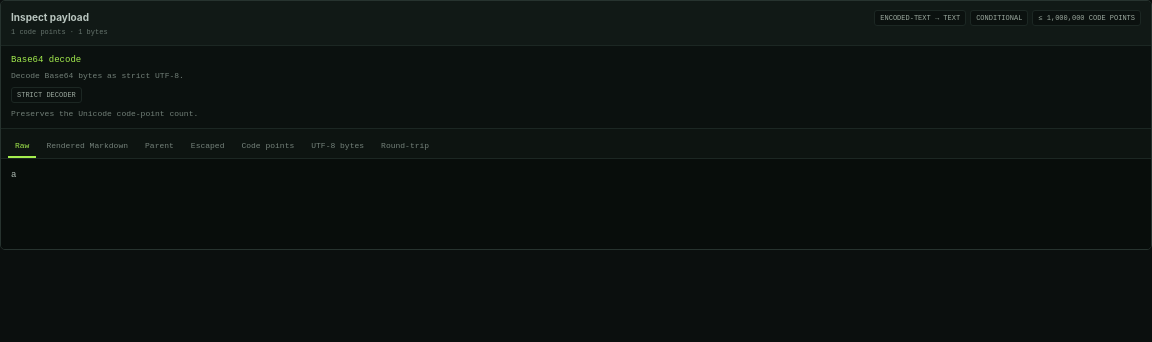
Scenario: PayloadInspectionPanel › reports a directional inverse mismatch when decoding canonicalizes source text
Click the tab "Round-trip": (405,147) [374,135,436,158]
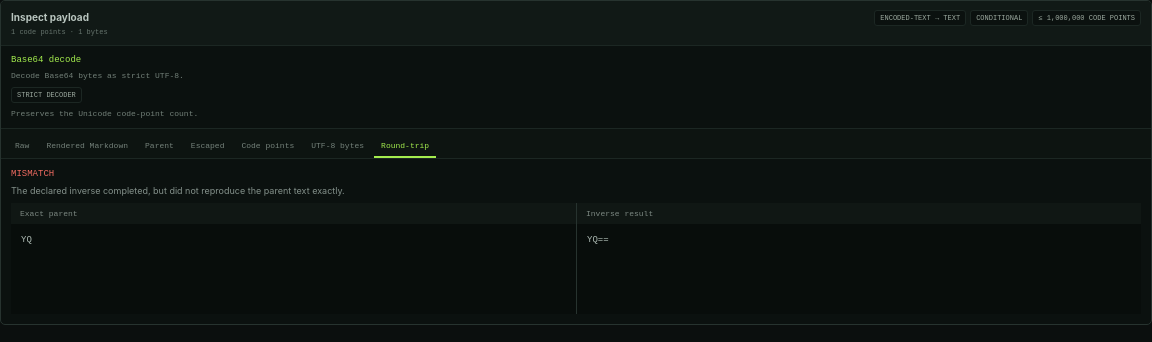
Expected: the text "mismatch" is shown, [11,169,54,179]
Expected: the text "did not reproduce the parent text exactly" is shown, [11,185,345,196]
Expected: the text "YQ==" is shown, [577,224,1141,314]
